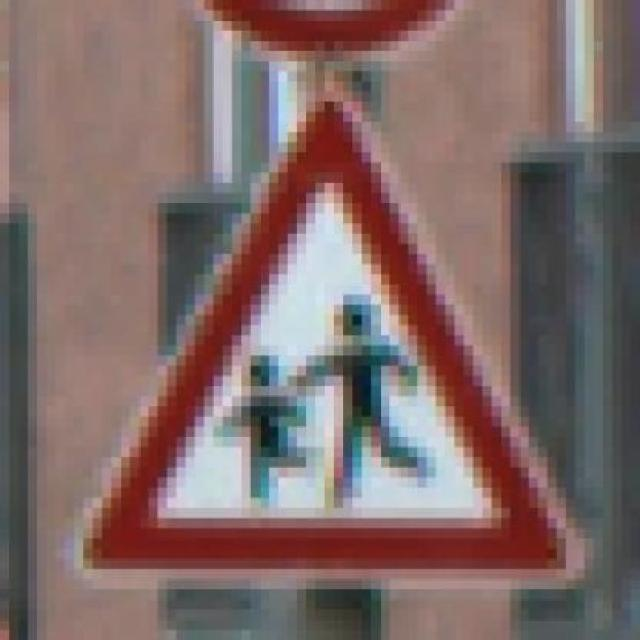Beware of children: (74, 71, 594, 589)
